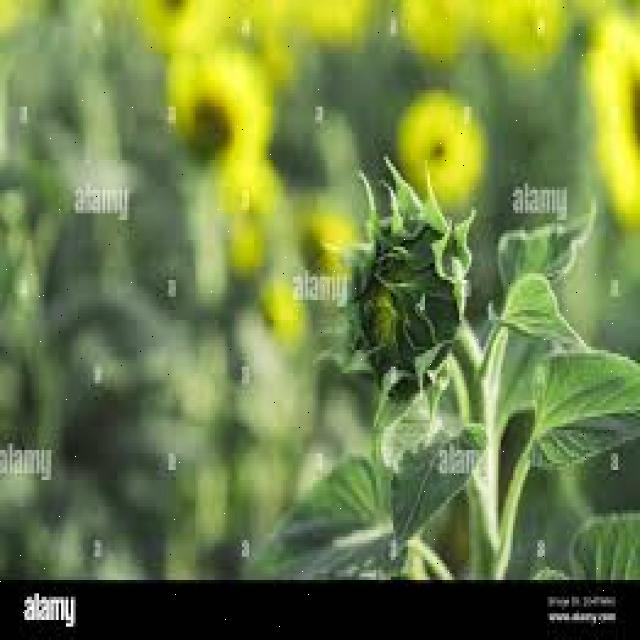Unbloomed: (330, 160, 479, 416)
